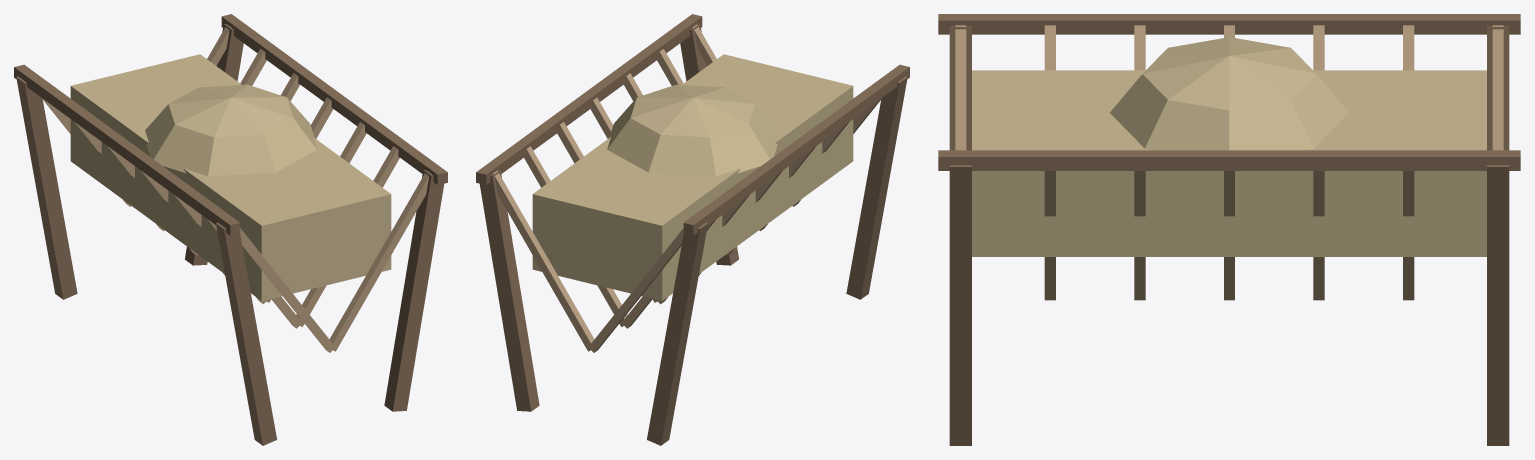
The model's file is hay_rack.glb.
The picture shows the model from 3 angles, left to right: view 1: azimuth 30°, elevation 25°; view 2: azimuth 150°, elevation 25°; view 3: azimuth 270°, elevation 25°; orthographic projection. The views are drawn at different scales.
Visible parts, largest first — view 1: HayRack; view 2: HayRack; view 3: HayRack.
Part boxes in pixels (<box>): HayRack: <box>14,14,447,445</box>; HayRack: <box>476,14,909,445</box>; HayRack: <box>938,14,1520,445</box>.
Size of the model in its own units: 1.54 by 1.69 by 2.6.
